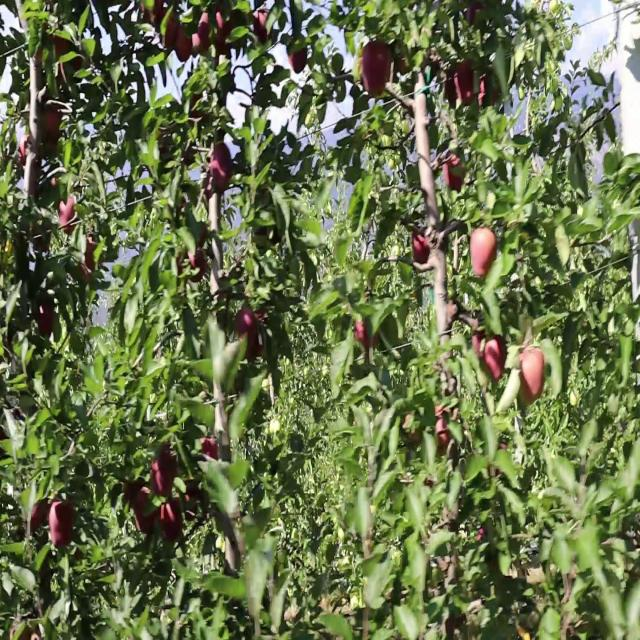apple: (514, 349, 545, 409), (360, 43, 392, 98), (468, 228, 499, 276), (482, 334, 509, 385), (208, 143, 234, 195), (234, 310, 259, 362), (157, 496, 184, 544), (47, 500, 72, 551), (150, 451, 178, 496), (133, 487, 158, 535), (40, 102, 64, 150), (445, 154, 467, 196), (185, 246, 208, 283), (454, 61, 474, 102), (252, 8, 276, 42), (212, 3, 231, 42), (411, 229, 432, 264), (158, 8, 177, 46), (28, 499, 47, 537), (288, 37, 308, 72), (58, 198, 76, 236), (177, 22, 191, 63), (191, 24, 204, 64)
